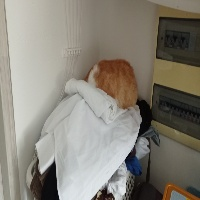asleep: (84, 60, 138, 110)
